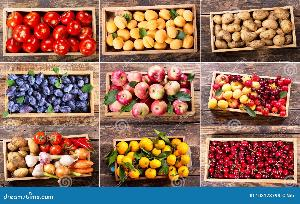apple: (104, 70, 196, 120)
apricot: (101, 2, 203, 56)
orange: (100, 130, 194, 186)
plum: (6, 69, 96, 118)
tomato: (0, 5, 94, 58)
